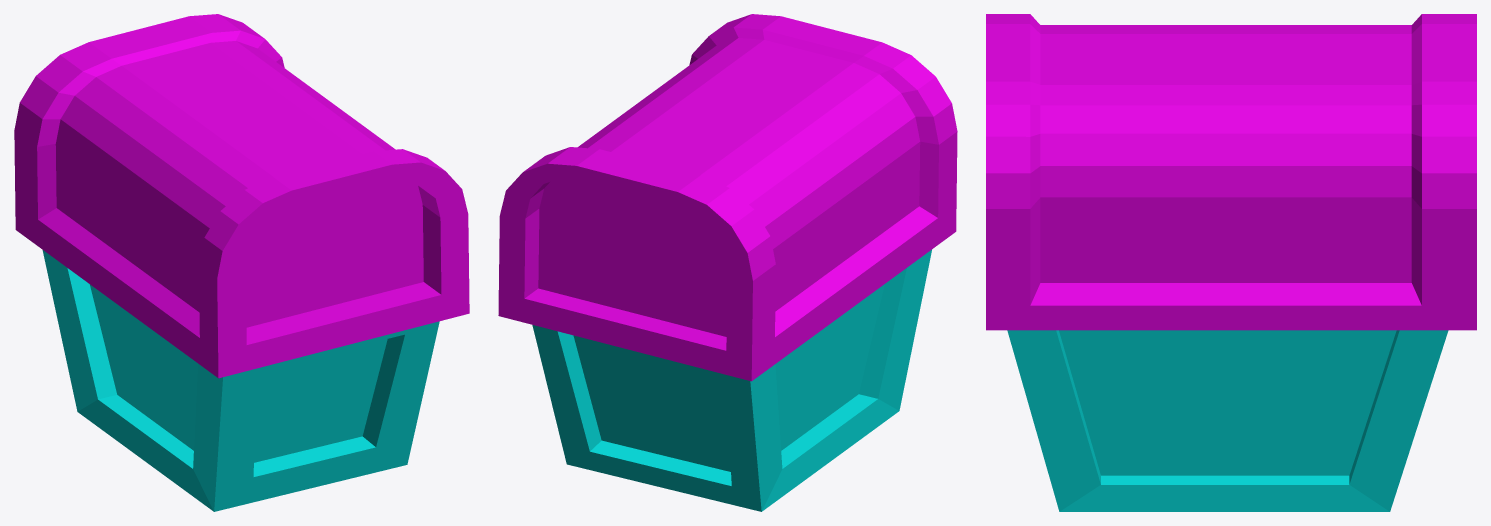
File: cofre-pequeno-f.fbx
3 views of the same model, side by side, from view 1: azimuth 30°, elevation 25°; view 2: azimuth 150°, elevation 25°; view 3: azimuth 270°, elevation 25° (orthographic). The views are drawn at different scales.
Visible parts, largest first — view 1: todo:chestsCube.203, todo:chestsCube.202; view 2: todo:chestsCube.203, todo:chestsCube.202; view 3: todo:chestsCube.203, todo:chestsCube.202.
Part boxes in pixels (x1,y1,x2,y2): todo:chestsCube.203: [14, 14, 469, 378]; todo:chestsCube.202: [42, 250, 439, 511]; todo:chestsCube.203: [498, 14, 957, 381]; todo:chestsCube.202: [532, 249, 931, 511]; todo:chestsCube.203: [986, 14, 1476, 330]; todo:chestsCube.202: [1007, 330, 1448, 511].
Size of the model in its own units: 5.63 by 7.11 by 7.84.
